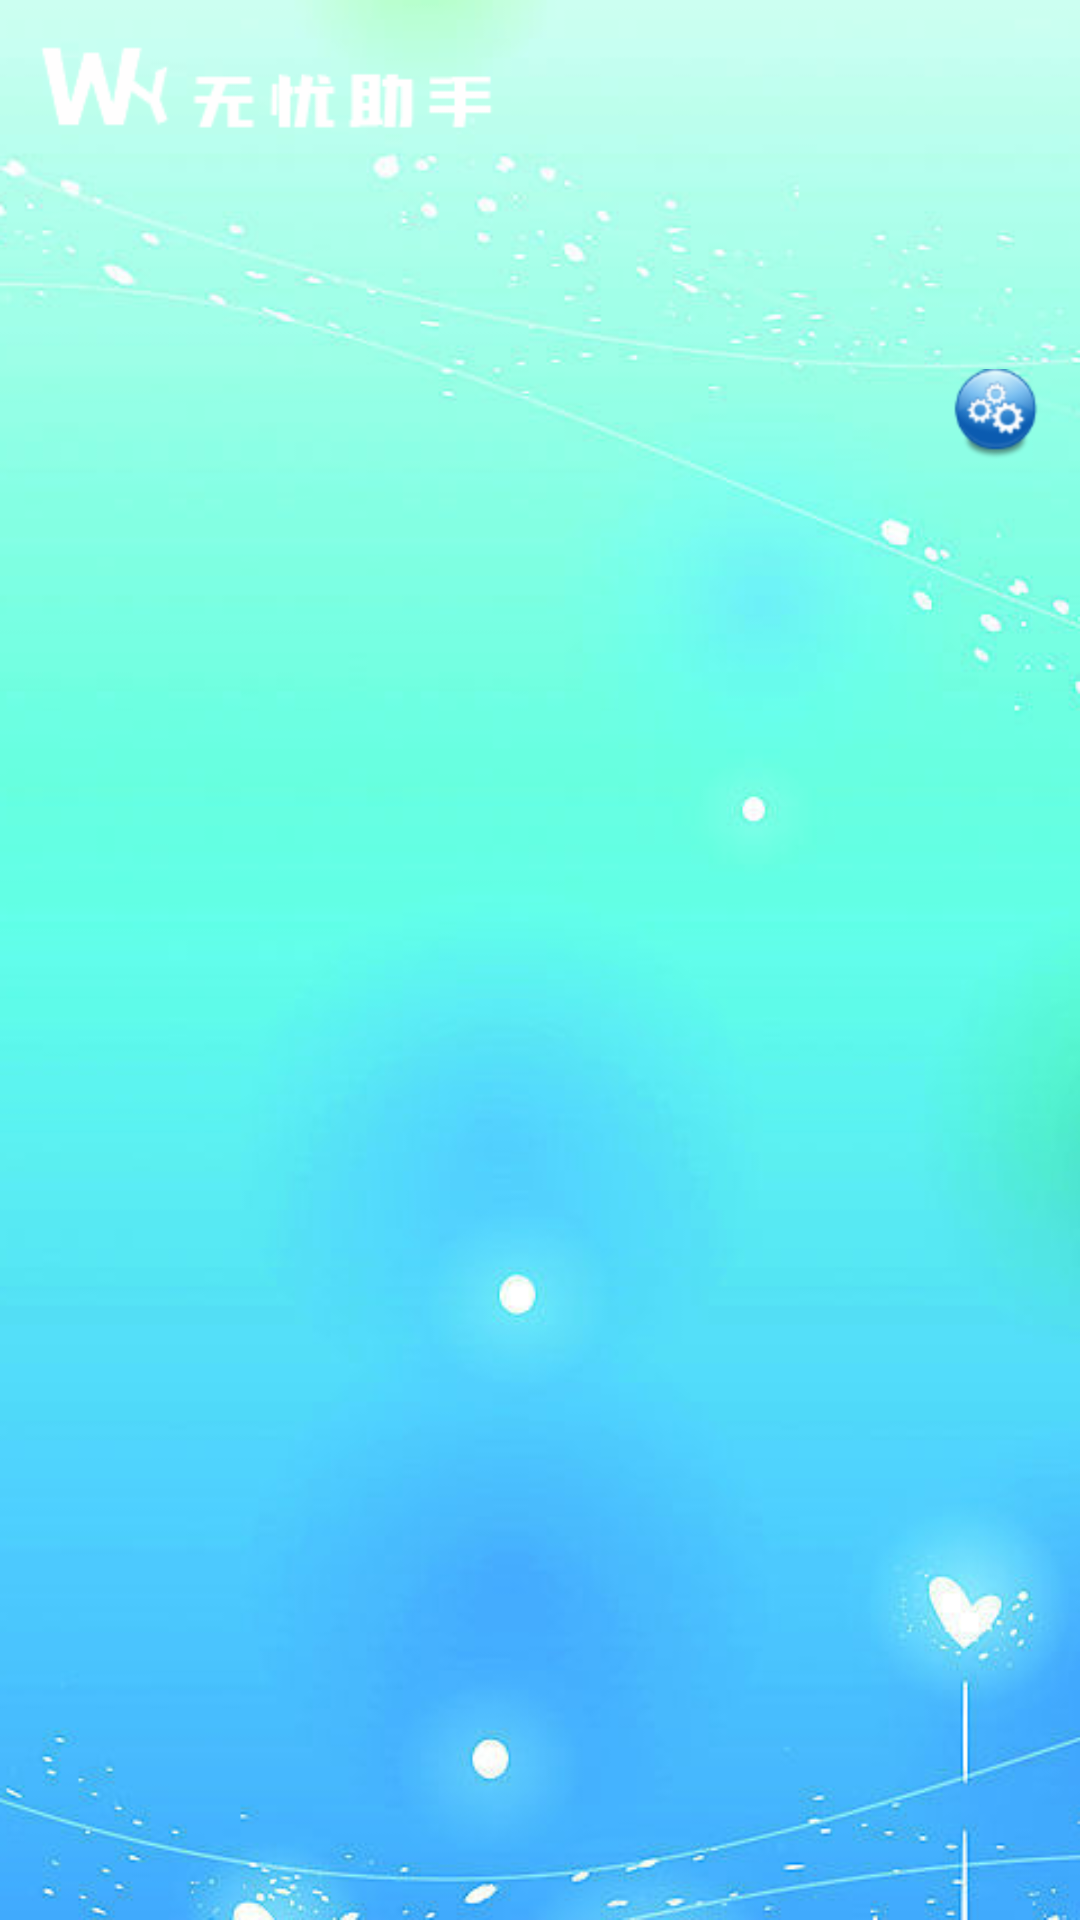

Icons on this 1080*1920 Android screen, each with its box as region(x1, y1, x2, y2):
home settings: region(954, 369, 1037, 456)
